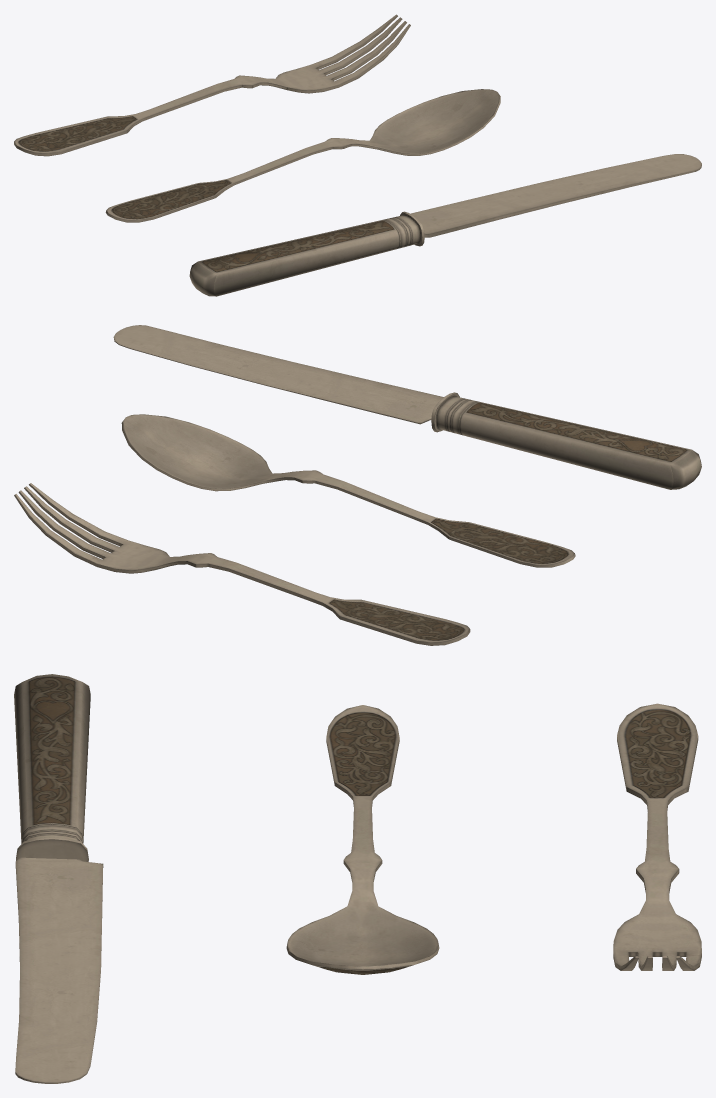
File: dining_tools.glb
3 views of the same model, one above another, from view 1: azimuth 30°, elevation 25°; view 2: azimuth 150°, elevation 25°; view 3: azimuth 270°, elevation 25° (orthographic). The views are drawn at different scales.
Visible parts, largest first — view 1: Object_2; view 2: Object_2; view 3: Object_2.
Boxes of the visible parts, <box> form: Object_2: <box>14,14,701,296</box>; Object_2: <box>14,325,701,645</box>; Object_2: <box>14,674,701,1083</box>.
Size of the model in its own units: 10.34 by 0.8079 by 7.62.
Materials: 1 (1 with a texture image).
